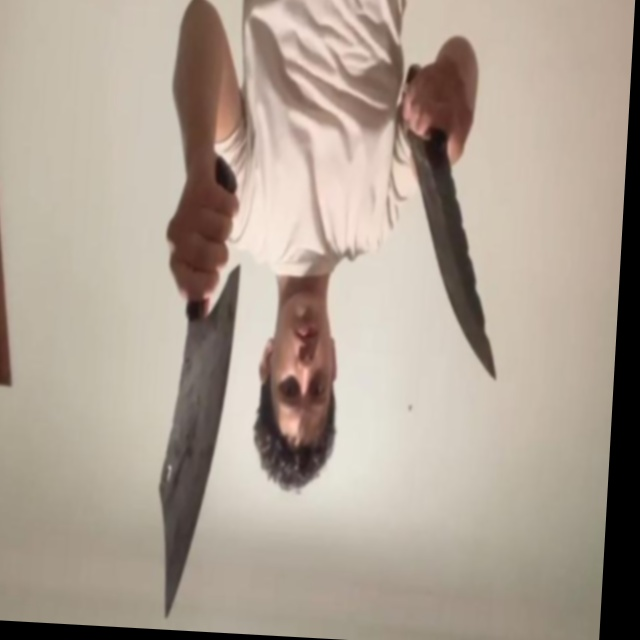Sharp-Object: (147, 259, 240, 621), (398, 133, 510, 380)
